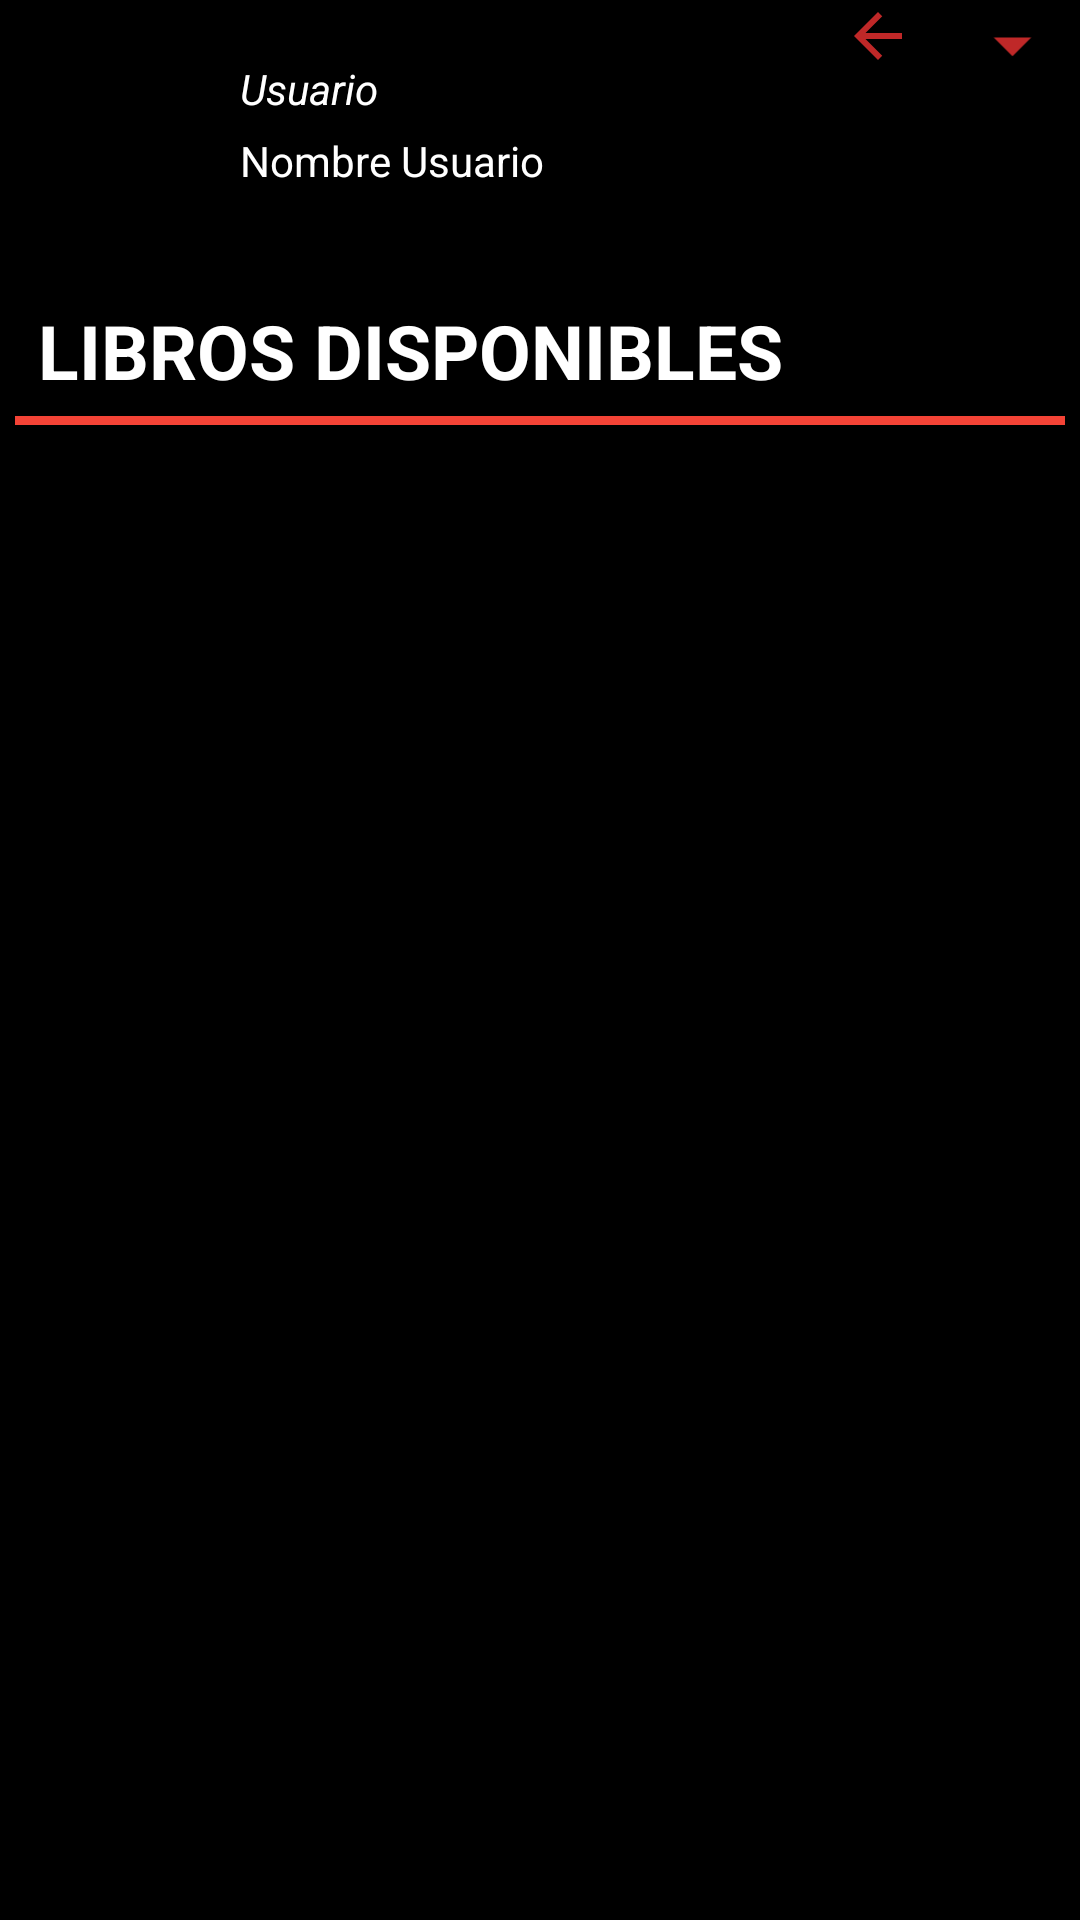

Icon click points for this 1080×1920 phone screenshot, format [x,y]:
arrow back: [878,36]
arrow menu: [1012,46]
